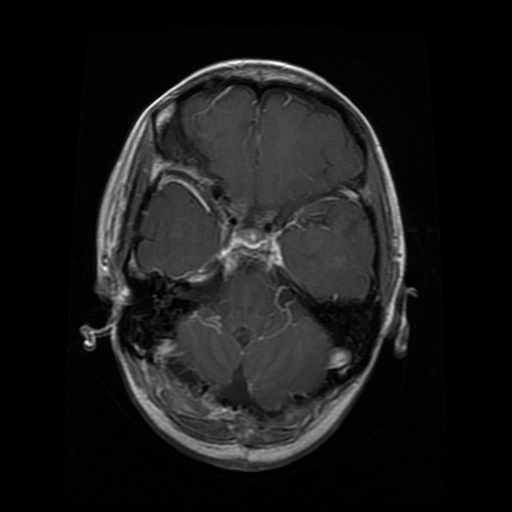glioma: (230, 322, 251, 348)
